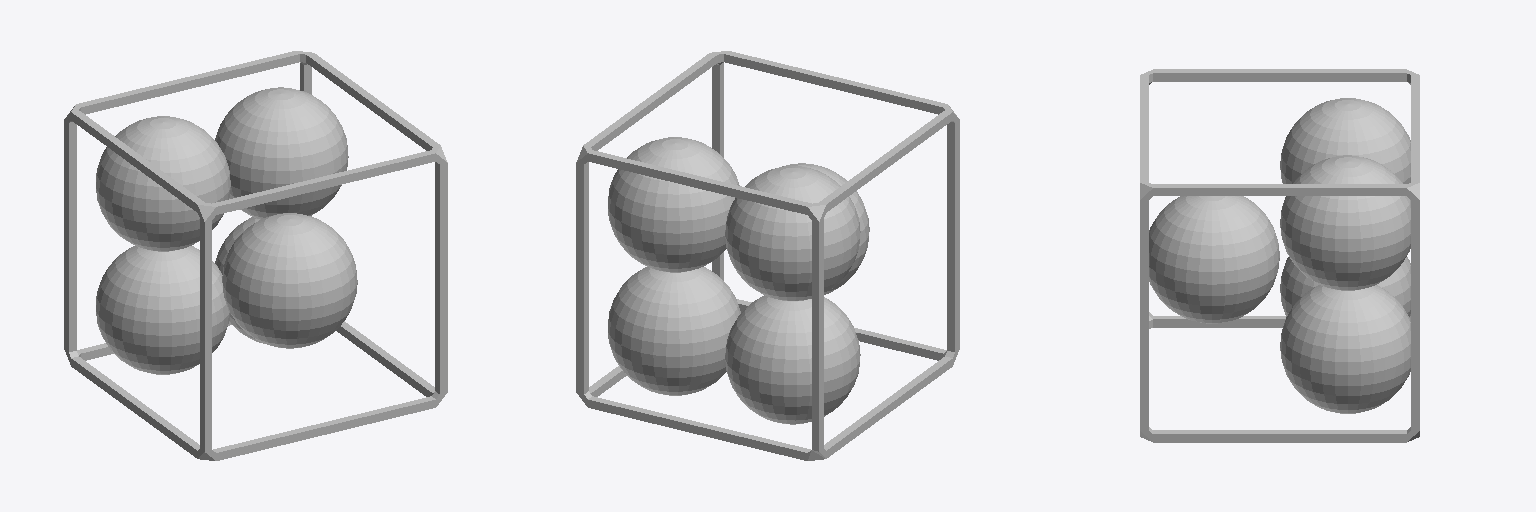
The model's file is stage_4.obj.
The picture shows the model from 3 angles: view 1: azimuth 30°, elevation 25°; view 2: azimuth 150°, elevation 25°; view 3: azimuth 270°, elevation 25°; orthographic projection.
Visible parts, largest first — view 1: Cube_Cube.002, Sphere.004_Sphere.005, Sphere, Sphere.002_Sphere.003, Sphere.003_Sphere.004, Sphere.001; view 2: Cube_Cube.002, Sphere.001, Sphere, Sphere.003_Sphere.004, Sphere.002_Sphere.003, Sphere.004_Sphere.005; view 3: Cube_Cube.002, Sphere.004_Sphere.005, Sphere.001, Sphere.003_Sphere.004, Sphere.002_Sphere.003, Sphere.
Boxes of the visible parts, x1=… form: Cube_Cube.002: x1=64, y1=51, x2=447, y2=460; Sphere.004_Sphere.005: x1=222, y1=213, x2=357, y2=348; Sphere: x1=96, y1=246, x2=230, y2=374; Sphere.002_Sphere.003: x1=96, y1=116, x2=230, y2=251; Sphere.003_Sphere.004: x1=215, y1=87, x2=348, y2=219; Sphere.001: x1=215, y1=217, x2=263, y2=343; Cube_Cube.002: x1=576, y1=51, x2=959, y2=460; Sphere.001: x1=608, y1=267, x2=740, y2=395; Sphere: x1=725, y1=295, x2=860, y2=424; Sphere.003_Sphere.004: x1=608, y1=137, x2=739, y2=272; Sphere.002_Sphere.003: x1=725, y1=166, x2=860, y2=300; Sphere.004_Sphere.005: x1=782, y1=163, x2=869, y2=294; Cube_Cube.002: x1=1140, y1=69, x2=1419, y2=442; Sphere.004_Sphere.005: x1=1149, y1=196, x2=1279, y2=323; Sphere.001: x1=1280, y1=285, x2=1410, y2=413; Sphere.003_Sphere.004: x1=1280, y1=155, x2=1410, y2=290; Sphere.002_Sphere.003: x1=1280, y1=98, x2=1410, y2=183; Sphere: x1=1280, y1=257, x2=1410, y2=316.
Bounding box in the file's own units: 1.03 × 1.03 × 1.03.